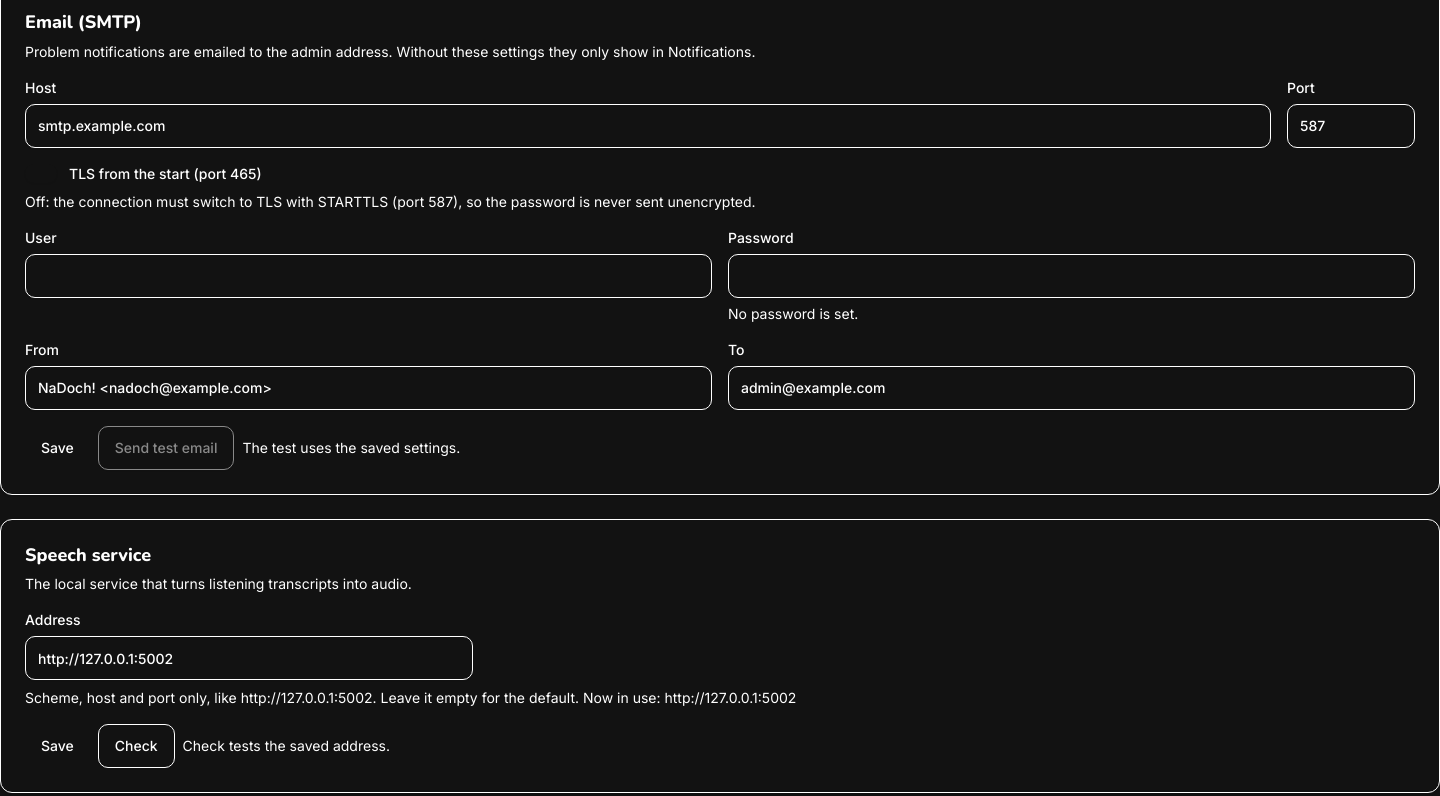
Test: SystemSettingsAdmin › shows a refused speech address
Type "http://x/render" into the field labelled "Address" at (249, 658), box [25, 636, 473, 680]
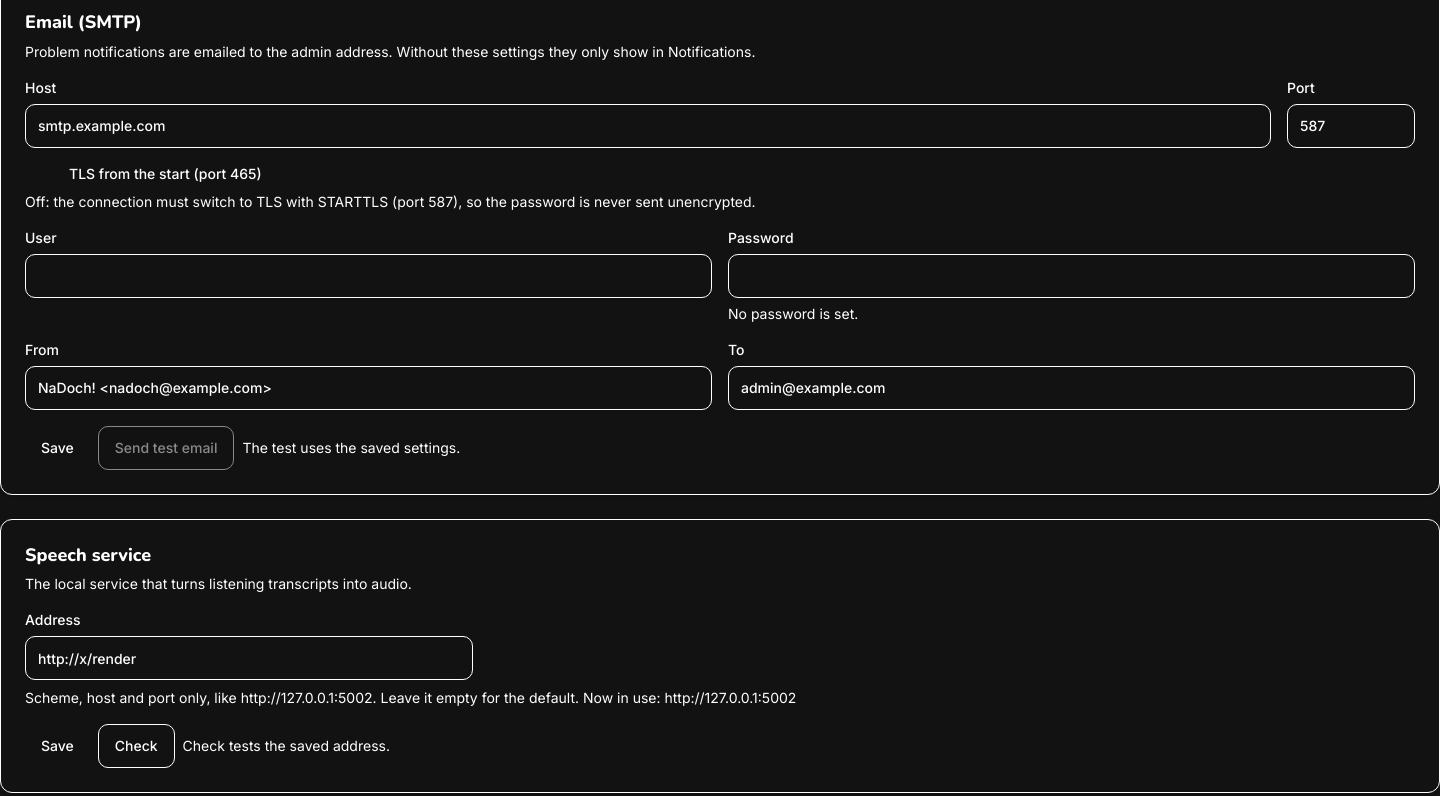
Click the button "Save" in the row of "Check tests the saved address." at (57, 746), box [25, 724, 90, 768]
(page scrolled)
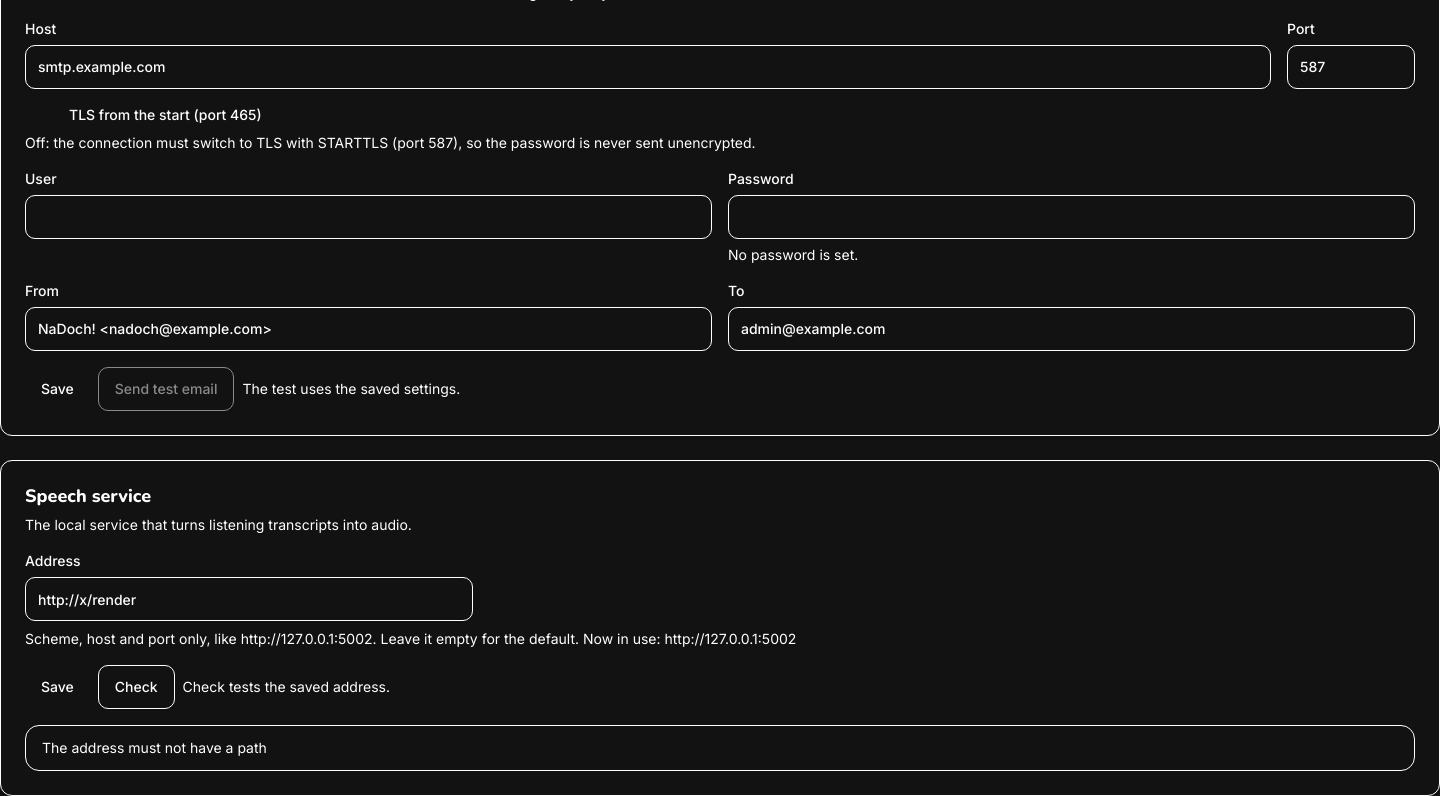
Check: the message reads "The address must not have a path", box [42, 739, 267, 756]
